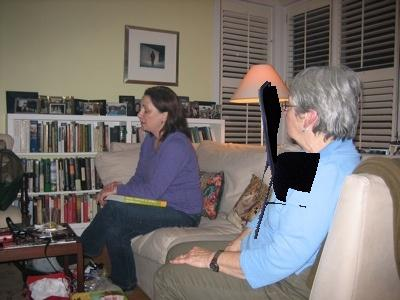tampered: (255, 82, 320, 239)
